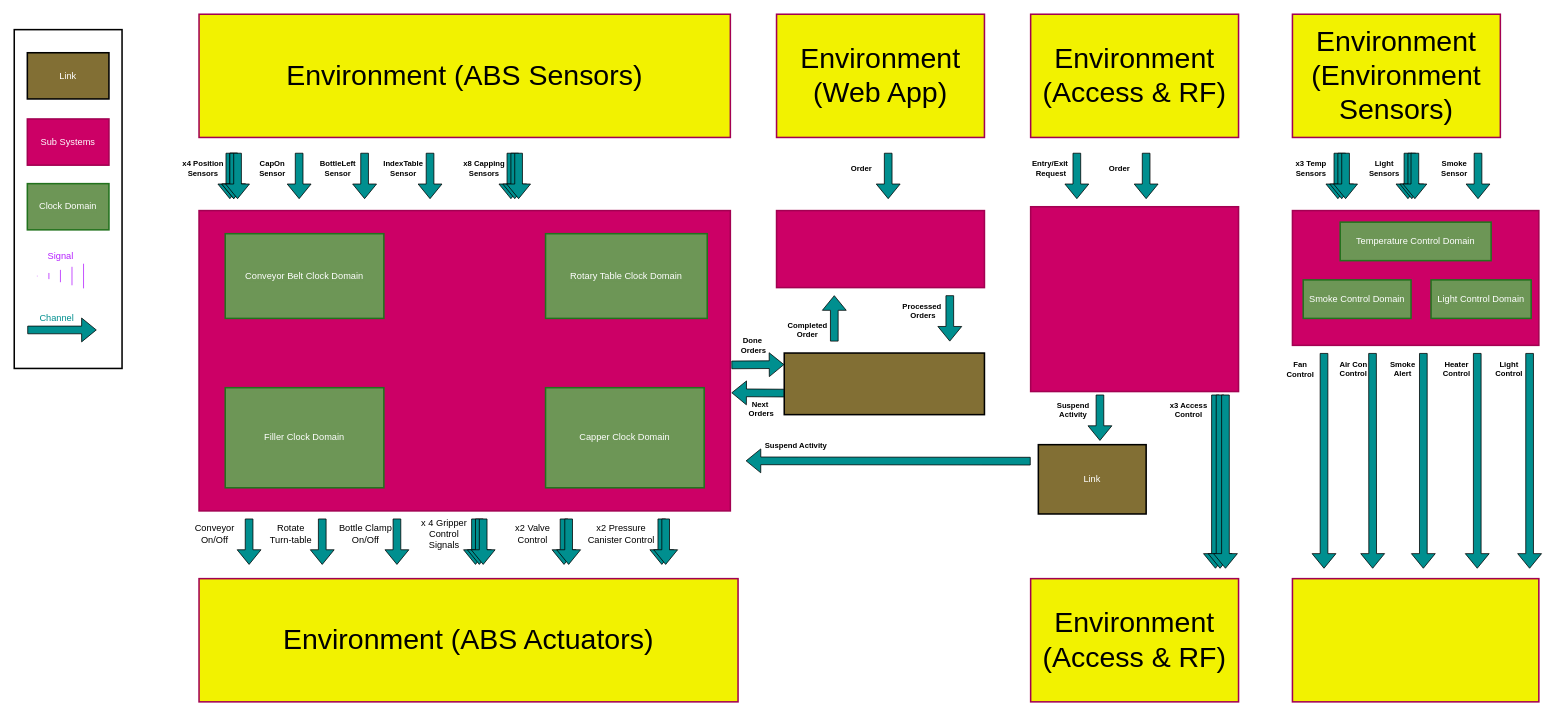
The diagram is 1555 pixels wide and 715 high, and some of its shapes have lost their labels. Here are the shapes that lost their labels. From the top down, the box of each, then its label:
(13, 28, 122, 369): Key
(775, 209, 985, 288): POS Sub-System
(1291, 209, 1539, 346): ECS Sub-System
(1029, 206, 1239, 392): ACS Sub-System
(198, 209, 731, 511): ABS Sub-System
(783, 352, 985, 415): Link (Order Buffer)
(1291, 578, 1539, 702): Environment (Actuators)
